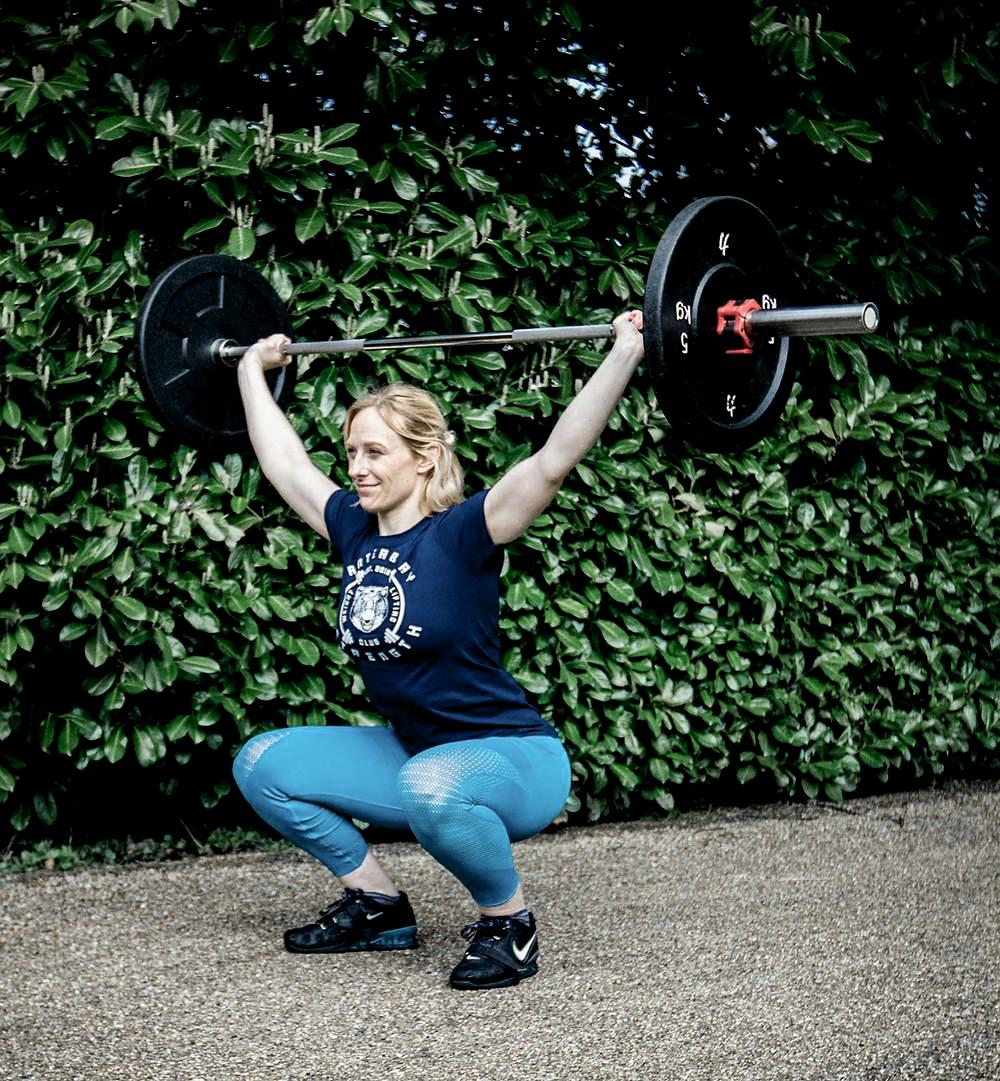Barbell: (857, 300, 883, 338)
